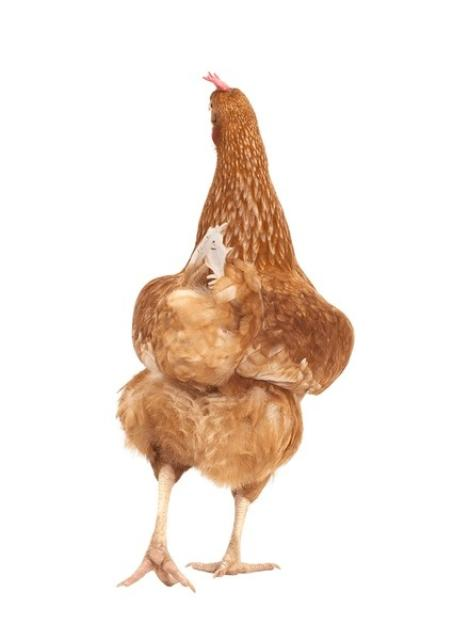Chicken: (116, 70, 353, 594)
